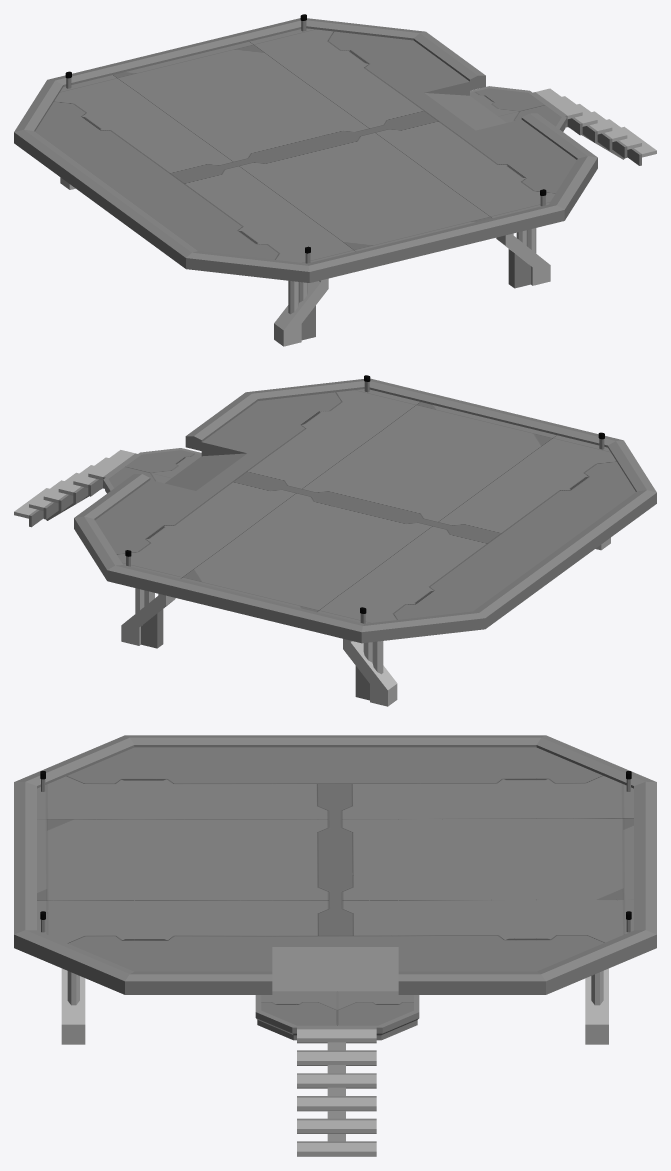
Rendered from SM_Platform_Spaceship_1.fbx.
3 views of the same model, one above another, from view 1: azimuth 30°, elevation 25°; view 2: azimuth 150°, elevation 25°; view 3: azimuth 270°, elevation 25° (orthographic). The views are drawn at different scales.
Visible parts, largest first — view 1: SM_Platform_Spaceship_1; view 2: SM_Platform_Spaceship_1; view 3: SM_Platform_Spaceship_1.
Part boxes in pixels (x1,y1,x2,y2): SM_Platform_Spaceship_1: (14, 14, 656, 346); SM_Platform_Spaceship_1: (14, 375, 656, 706); SM_Platform_Spaceship_1: (14, 735, 656, 1156).
Bounding box in the file's own units: 1264 × 229 × 1062.
